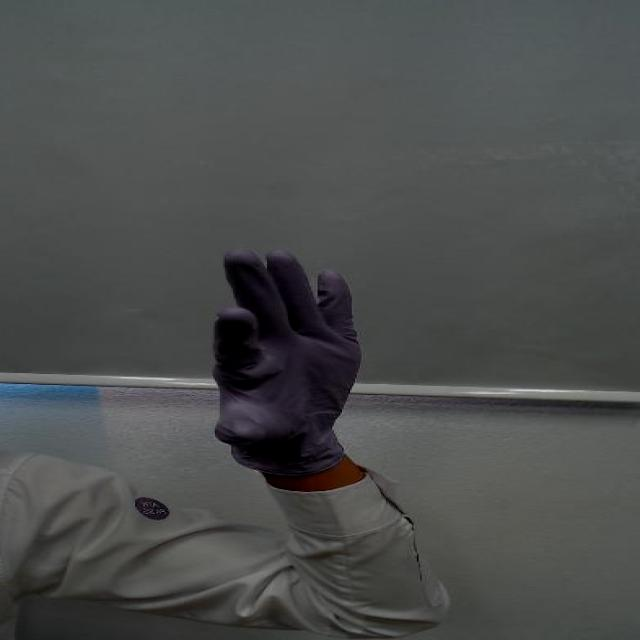glove: (159, 246, 421, 458)
